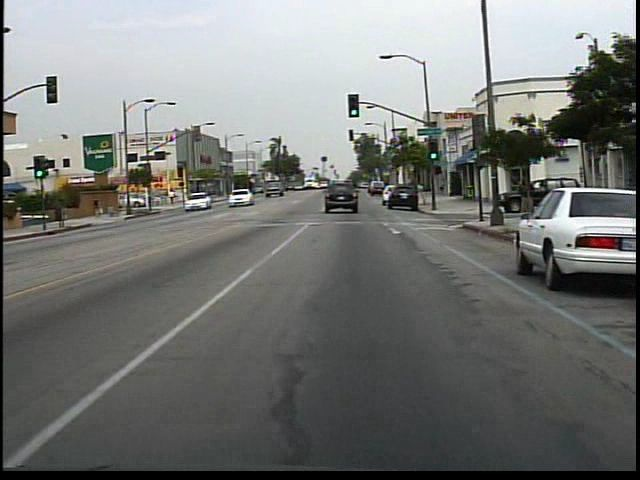person: (514, 171, 538, 231), (92, 193, 112, 221), (170, 187, 179, 208)
